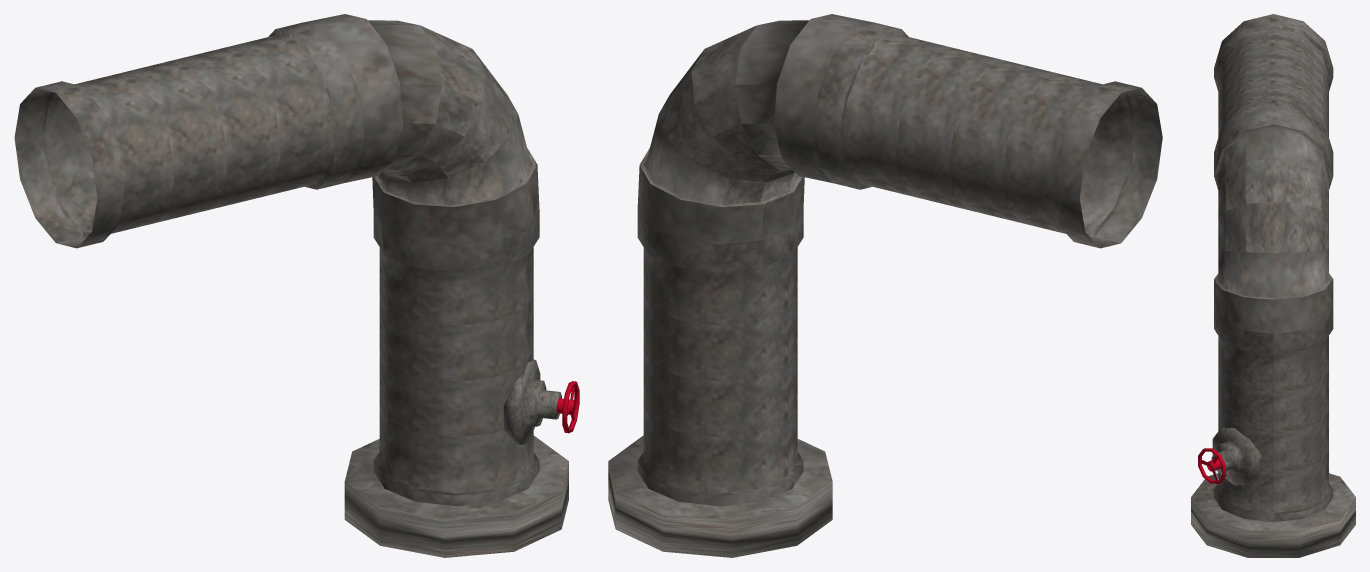
Rendered from L1E1_Sequence_03_Valve.fbx.
3 renders of one model, left to right at view 1: azimuth 30°, elevation 25°; view 2: azimuth 150°, elevation 25°; view 3: azimuth 270°, elevation 25°, orthographic. The views are drawn at different scales.
Visible parts, largest first — view 1: valve_base1, valve5; view 2: valve_base1; view 3: valve_base1, valve5.
Part boxes in pixels (left/top/right/bottom): valve_base1: left=14, top=14, right=568, bottom=557; valve5: left=556, top=381, right=579, bottom=433; valve_base1: left=608, top=14, right=1162, bottom=557; valve_base1: left=1191, top=14, right=1355, bottom=557; valve5: left=1198, top=448, right=1225, bottom=483.
Size of the model in its own units: 1.86 by 1.84 by 0.7444.
2 materials, 2 textured.
